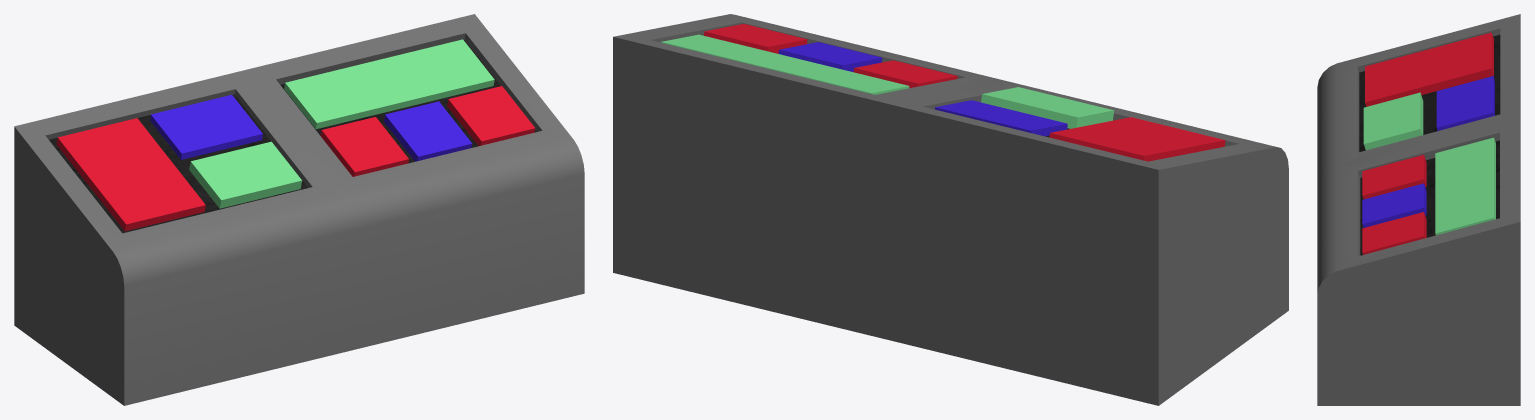
The model's file is ControlPanel.fbx.
3 views of the same model, side by side, from view 1: azimuth 30°, elevation 25°; view 2: azimuth 150°, elevation 25°; view 3: azimuth 270°, elevation 25° (orthographic). The views are drawn at different scales.
Parts seen in each view (by area): view 1: ControlPanel; view 2: ControlPanel; view 3: ControlPanel.
Part boxes in pixels (x1,y1,x2,y2): ControlPanel: [14, 14, 584, 405]; ControlPanel: [613, 14, 1288, 405]; ControlPanel: [1317, 14, 1520, 405].
Bounding box in the file's own units: 484 × 200 × 200.
